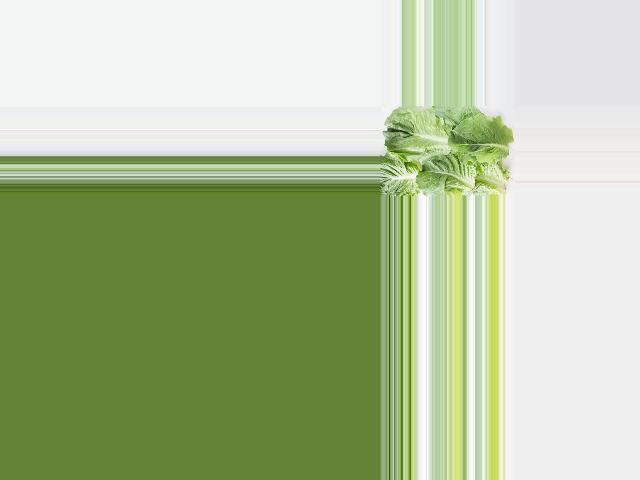lettuce: (383, 108, 510, 197)
